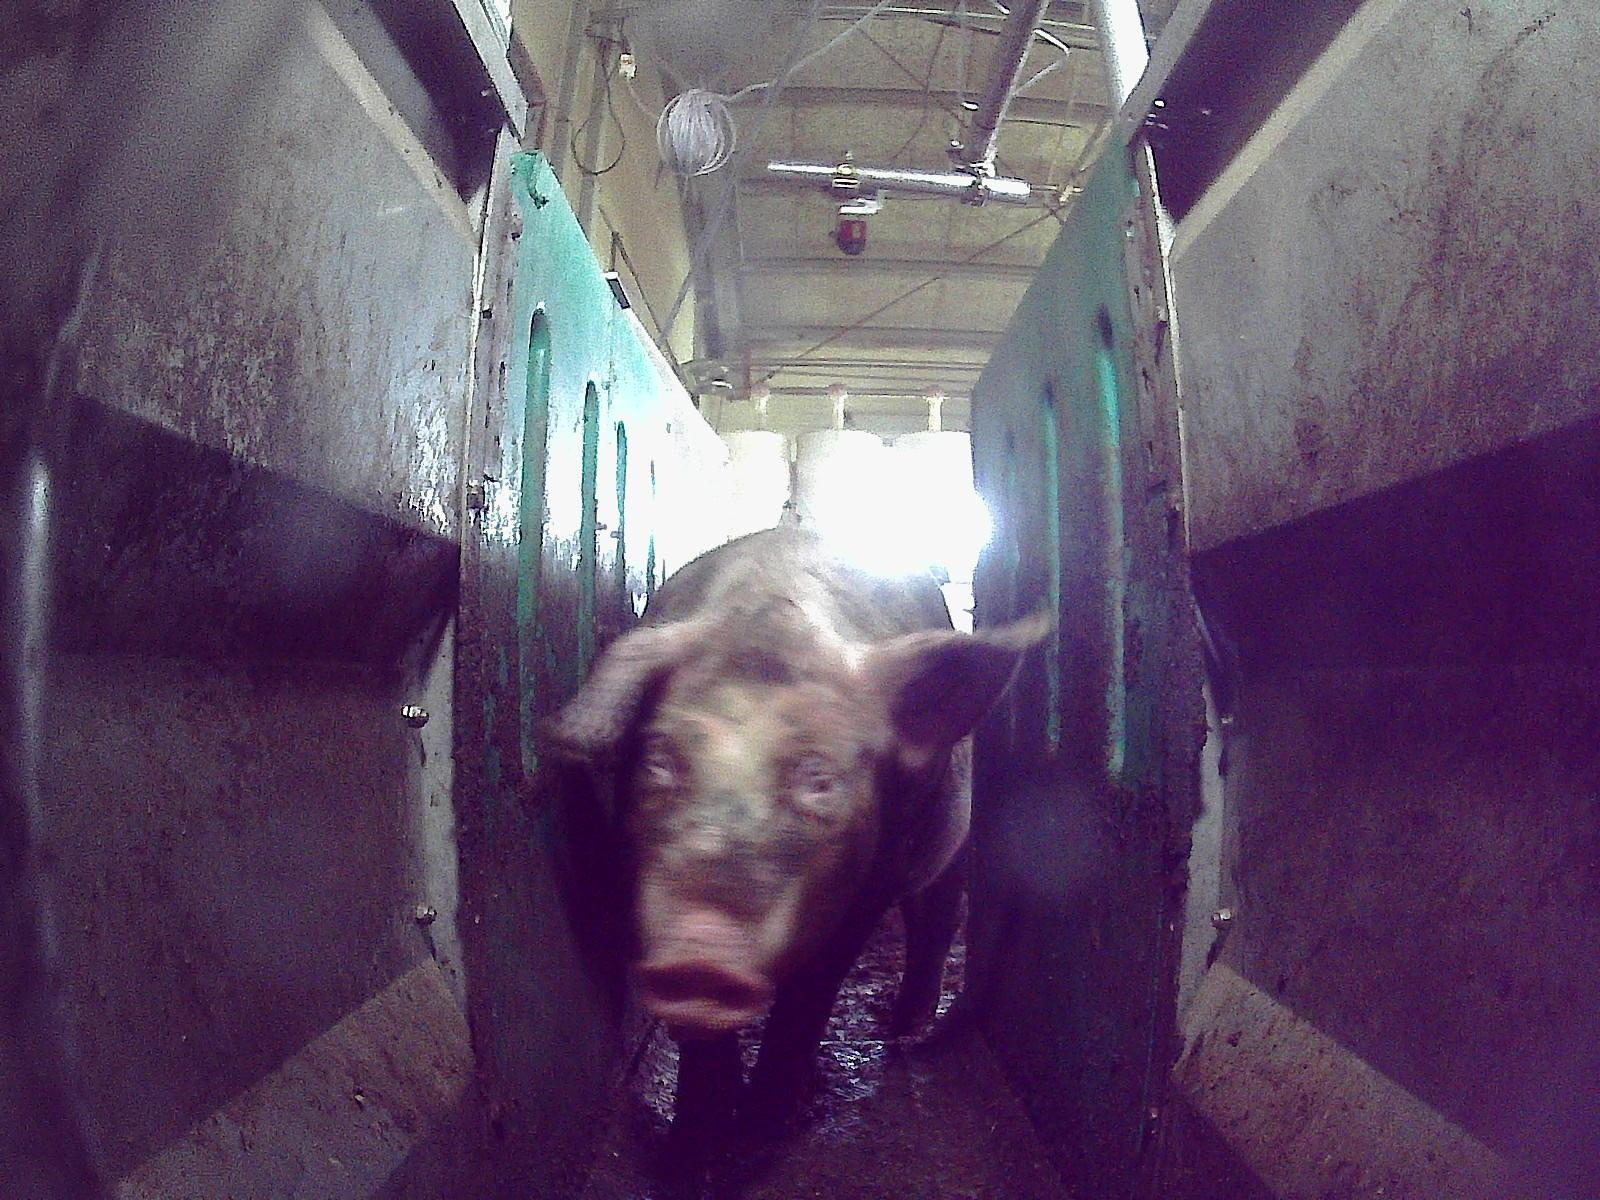Face: (628, 672, 884, 1034)
